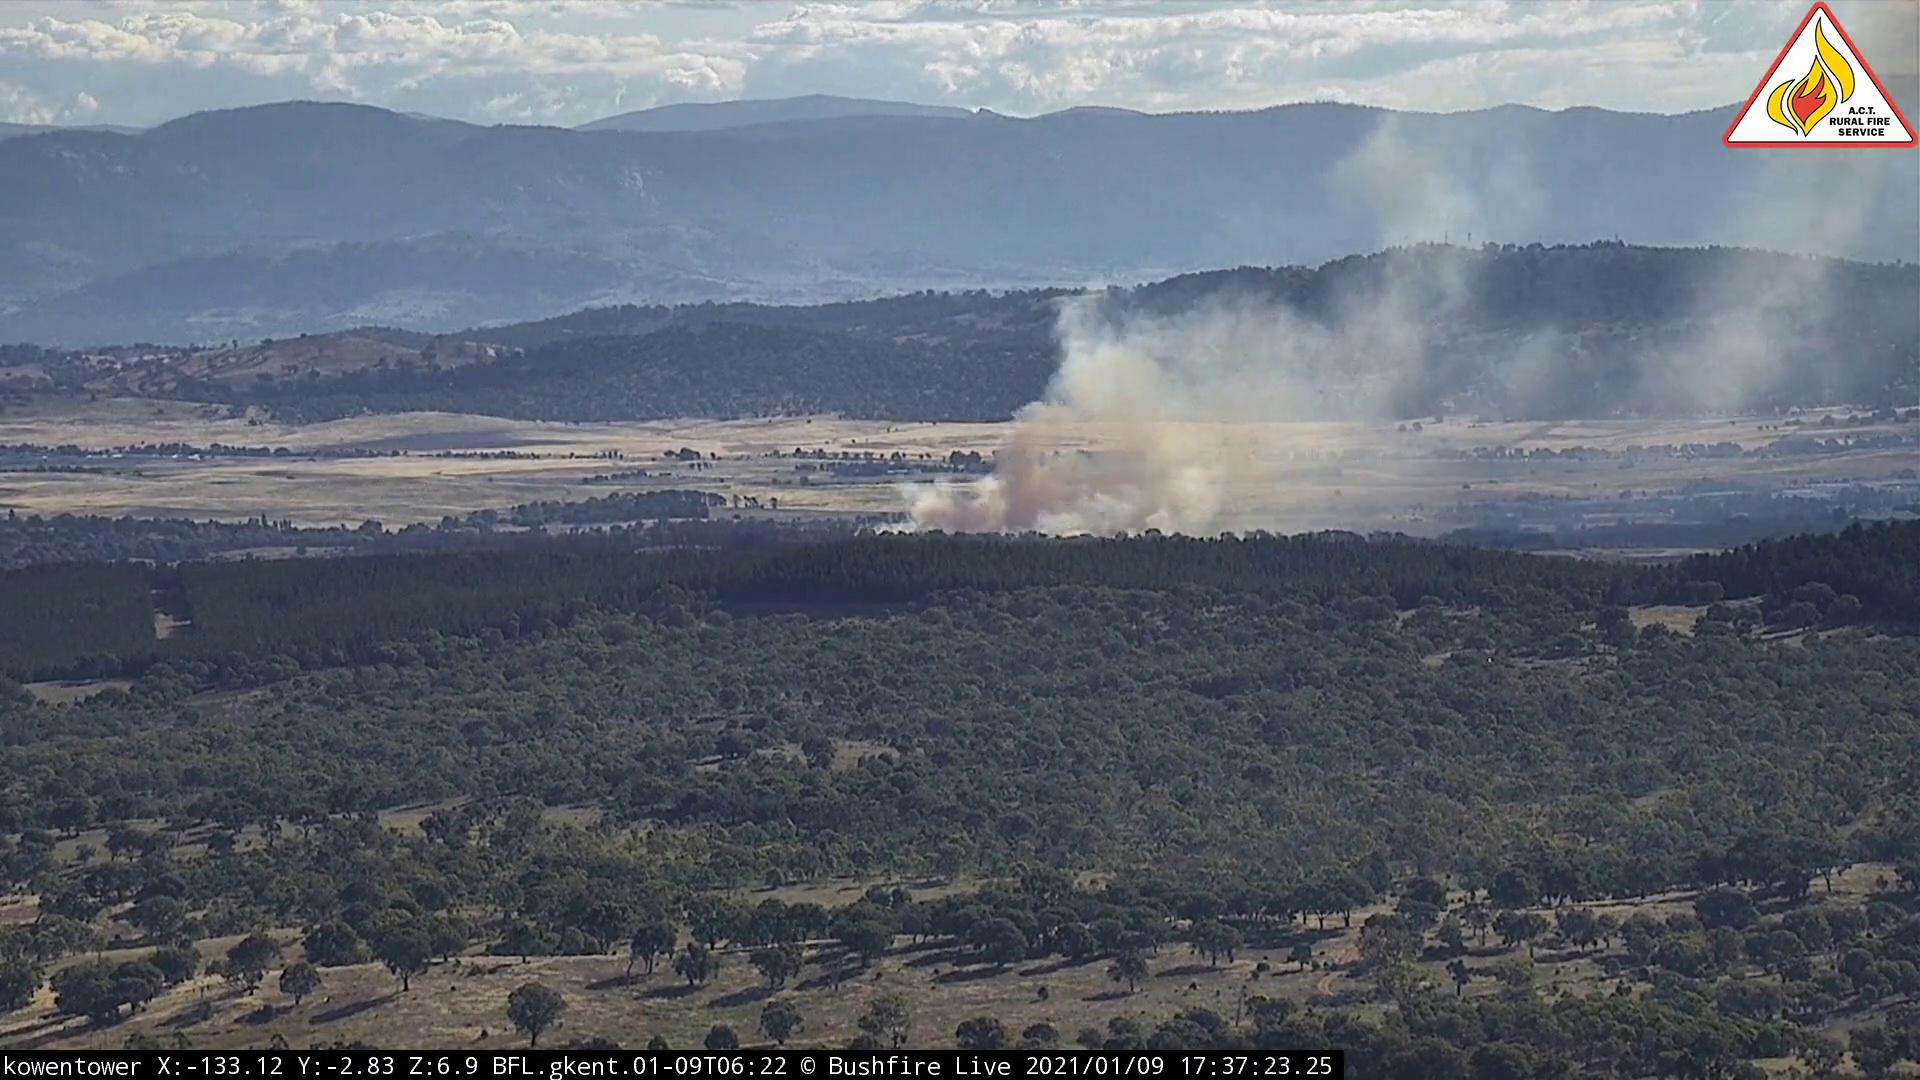Smoke: (857, 109, 1706, 549)
